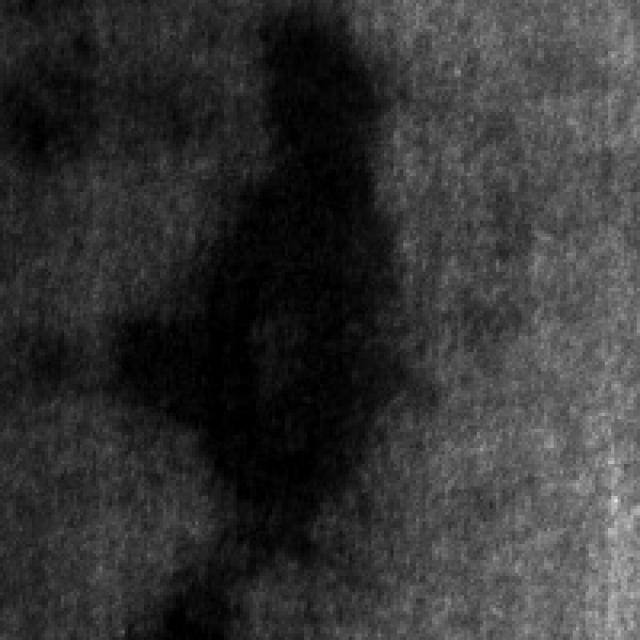patches: (109, 16, 397, 518), (121, 550, 252, 637), (0, 60, 93, 170)
